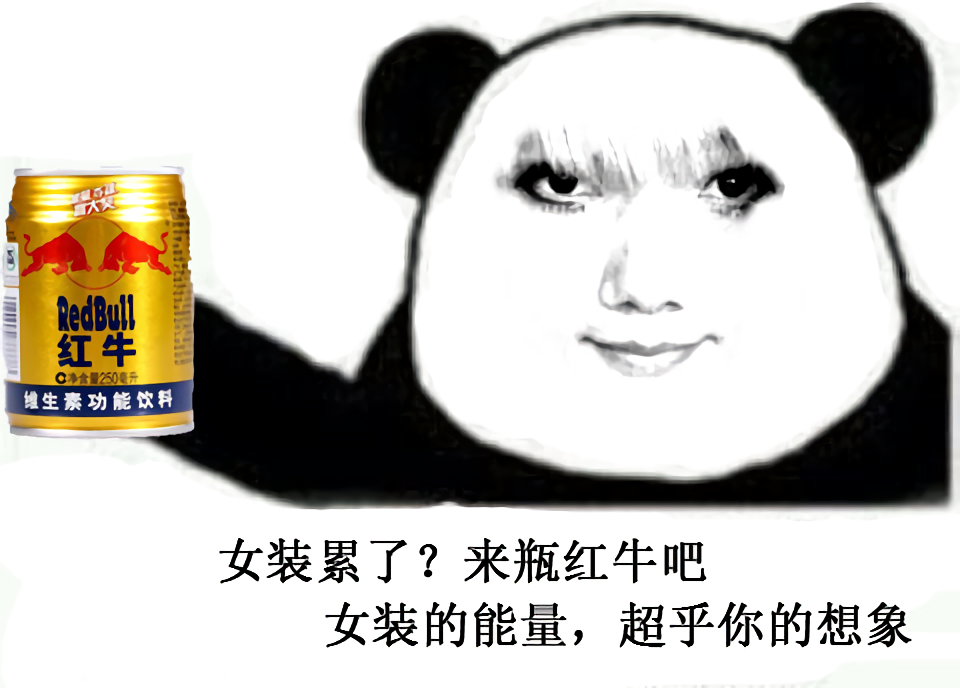dragon: (509, 131, 789, 386)
